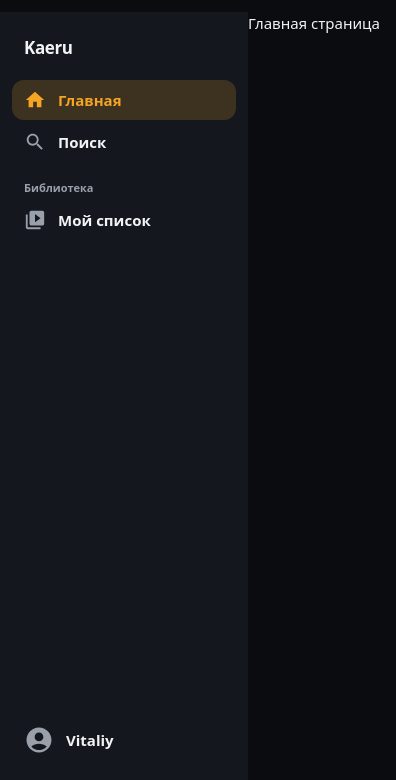
Test: Layout › moves between sections
The width and height of the screenshot is (396, 780).
What coordinates should you click on to do the following:
click the link "Поиск"
I would click on:
 (65, 142)
Its box is top-left (24, 131), bottom-right (106, 153).
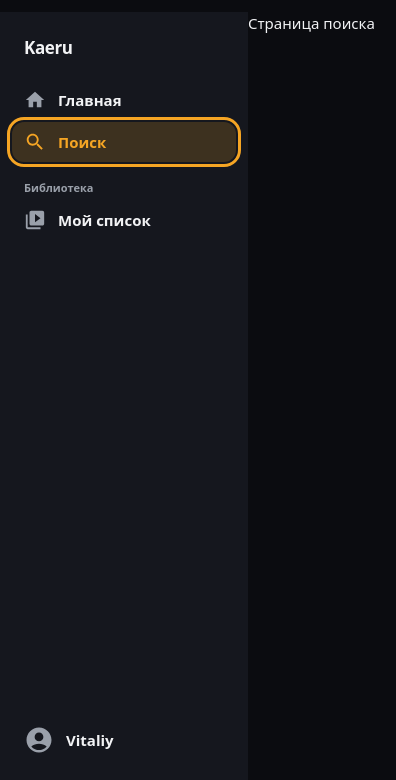
Expected: the text "Страница поиска" is shown, top-left (248, 13), bottom-right (375, 33)
